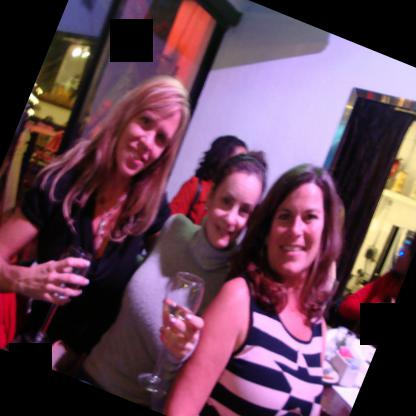handbag: (188, 177, 201, 211)
